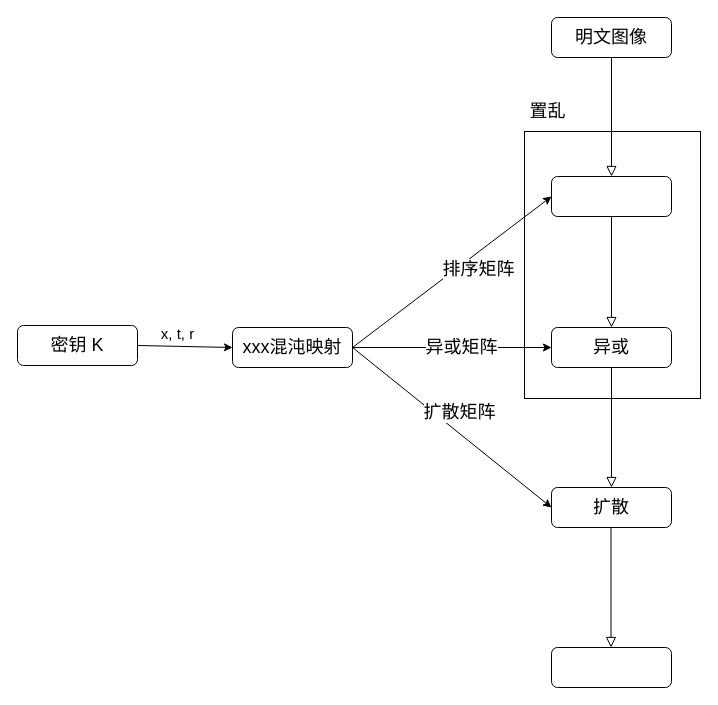
Image size: 718x705. Some labels were removed from this diagram. The centre of each missing label's shape, as x and y in pixels:
密文图像: the point at 611,667
排序: the point at 611,196
